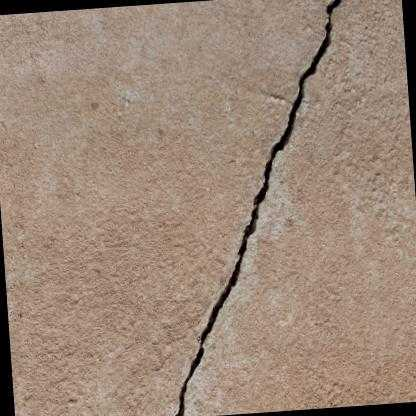crack: (172, 0, 341, 416)
